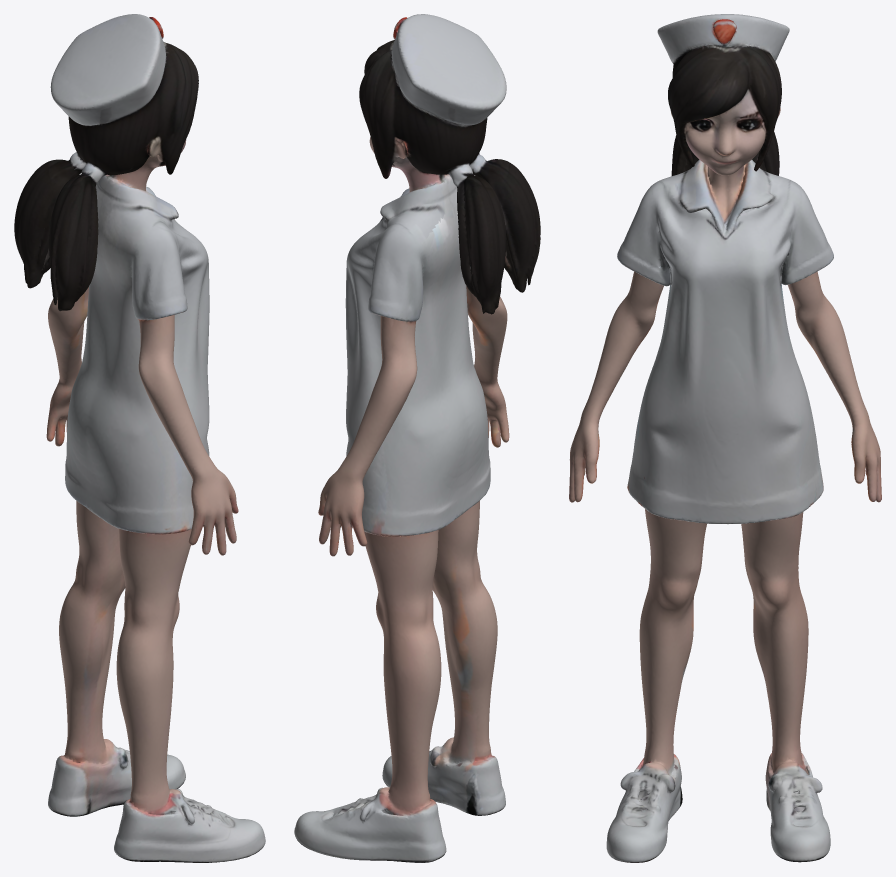
File: Enfermera_ChambaNereyda.glb
3 views of the same model, side by side, from view 1: azimuth 30°, elevation 25°; view 2: azimuth 150°, elevation 25°; view 3: azimuth 270°, elevation 25° (orthographic).
Parts seen in each view (by area): view 1: tripo_node_c4f3e458-5e5f-4be3-8712-c3f35e6f14c2; view 2: tripo_node_c4f3e458-5e5f-4be3-8712-c3f35e6f14c2; view 3: tripo_node_c4f3e458-5e5f-4be3-8712-c3f35e6f14c2.
Part boxes in pixels (x1,y1,x2,y2): tripo_node_c4f3e458-5e5f-4be3-8712-c3f35e6f14c2: [14, 14, 265, 862]; tripo_node_c4f3e458-5e5f-4be3-8712-c3f35e6f14c2: [294, 14, 540, 862]; tripo_node_c4f3e458-5e5f-4be3-8712-c3f35e6f14c2: [569, 14, 881, 862].
Size of the model in its own units: 0.2429 by 1 by 0.3466.
1 material, 1 textured.
